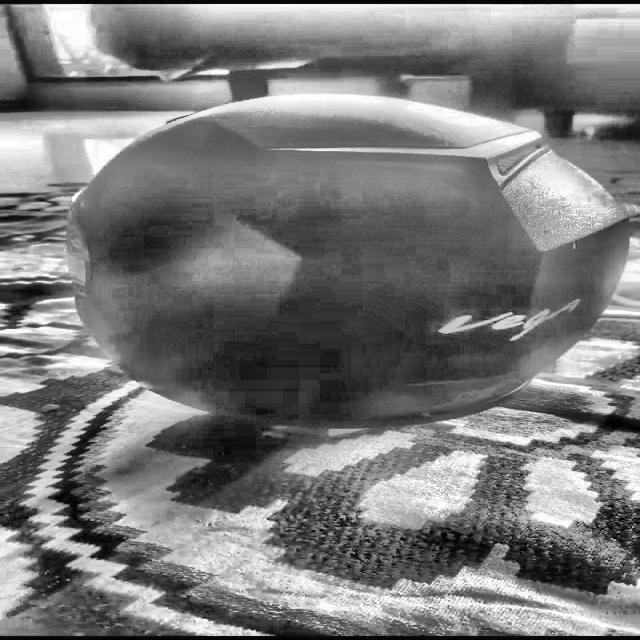Helmet: (61, 94, 640, 422)
